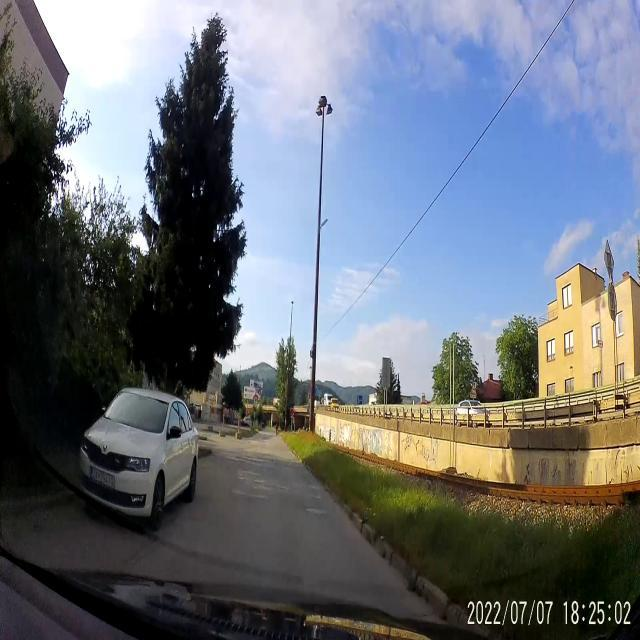Pothole: (304, 503, 330, 525)
